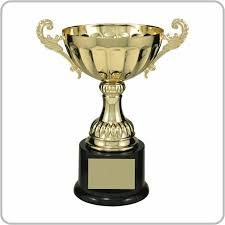trophy: (36, 17, 190, 206)
